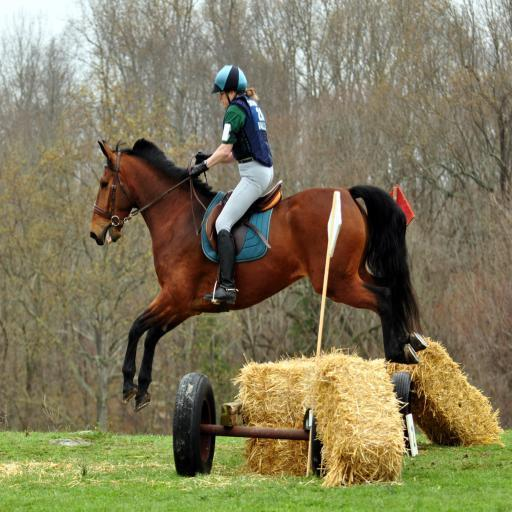horse: (91, 138, 422, 414)
